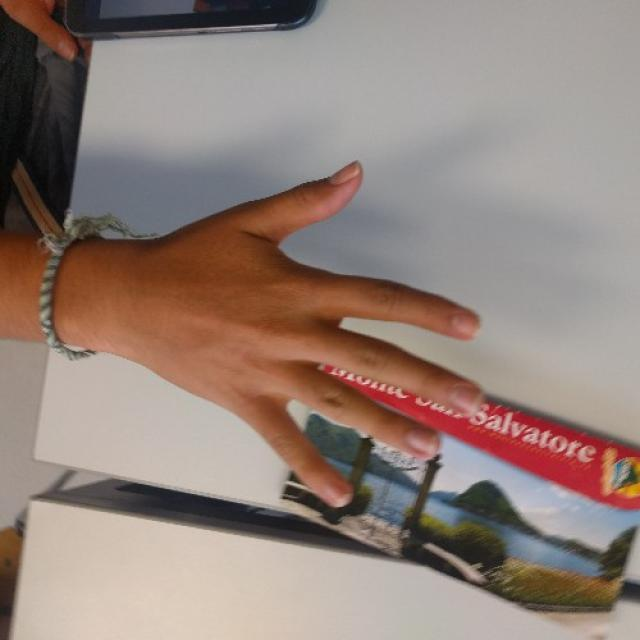paper: (162, 159, 482, 512)
